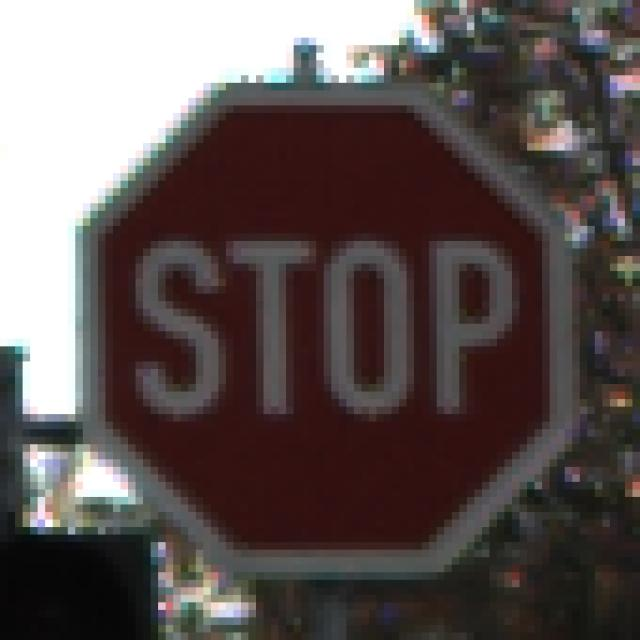STOP: (54, 62, 588, 589)
